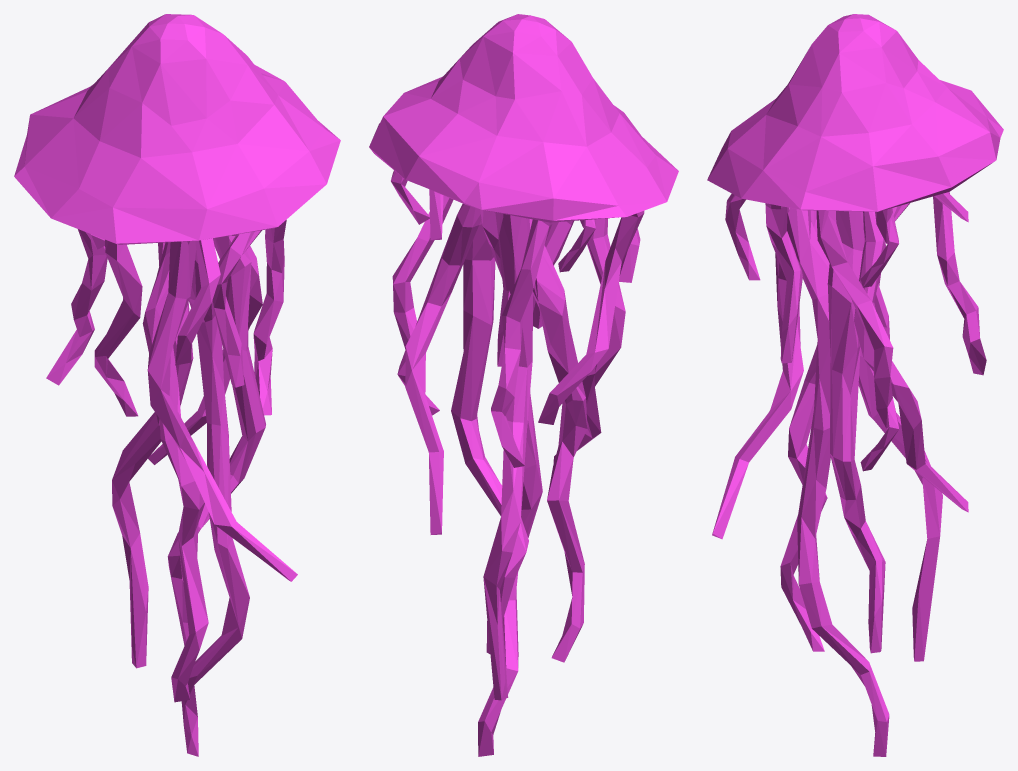
Rendered from SM_Mushroom_Jellyfish_Big_B_Fantasy.fbx.
3 views of the same model, side by side, from view 1: azimuth 30°, elevation 25°; view 2: azimuth 150°, elevation 25°; view 3: azimuth 270°, elevation 25° (orthographic). The views are drawn at different scales.
Visible parts, largest first — view 1: SM_Mushroom_Jellyfish_Big_B_Fantasy; view 2: SM_Mushroom_Jellyfish_Big_B_Fantasy; view 3: SM_Mushroom_Jellyfish_Big_B_Fantasy.
Boxes of the visible parts, left/top/right/bottom form: SM_Mushroom_Jellyfish_Big_B_Fantasy: left=14, top=14, right=340, bottom=756; SM_Mushroom_Jellyfish_Big_B_Fantasy: left=369, top=14, right=678, bottom=756; SM_Mushroom_Jellyfish_Big_B_Fantasy: left=707, top=14, right=1003, bottom=756.
Bounding box in the file's own units: 1.48 × 3.89 × 1.44.
